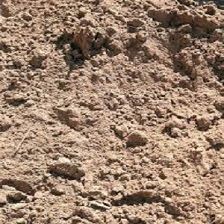sandy_soil: (12, 13, 214, 216)
